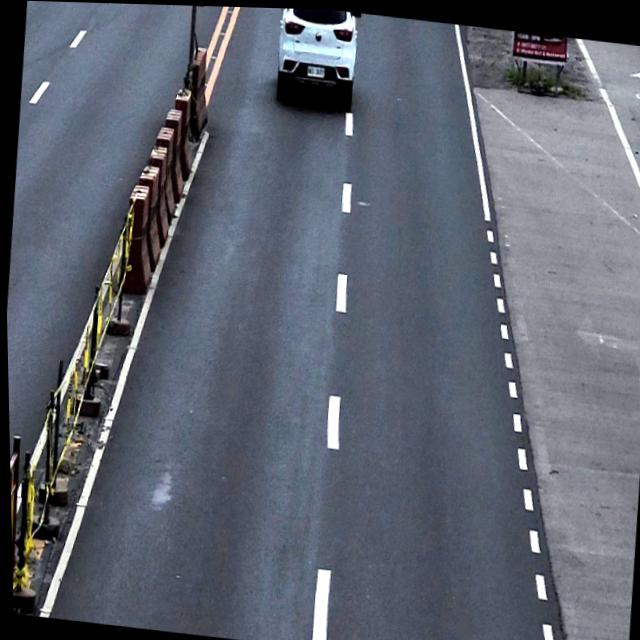Car: (269, 6, 361, 104)
License-Plate: (305, 61, 325, 78)
